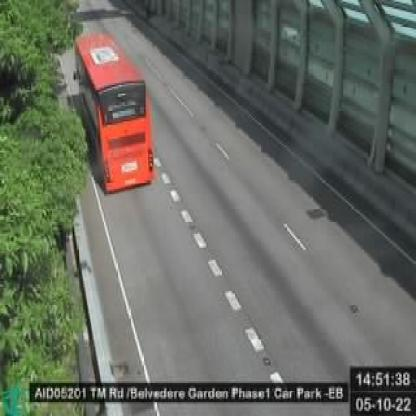Bus: (75, 33, 156, 191)
